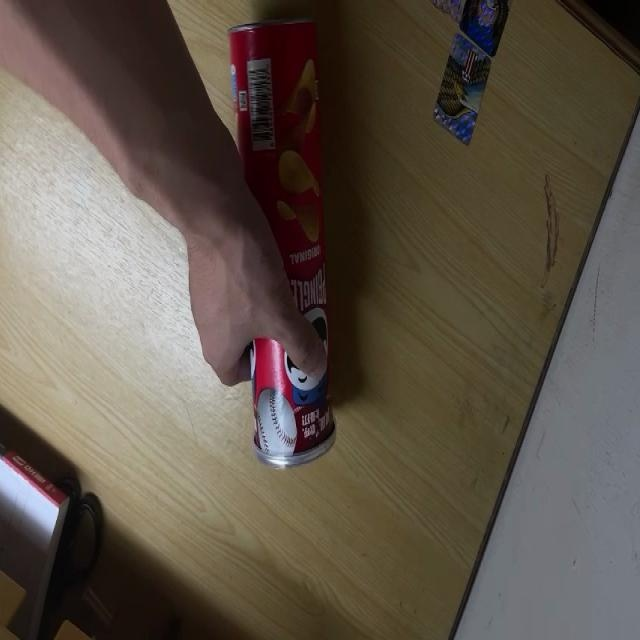Pringles: (227, 18, 337, 481)
